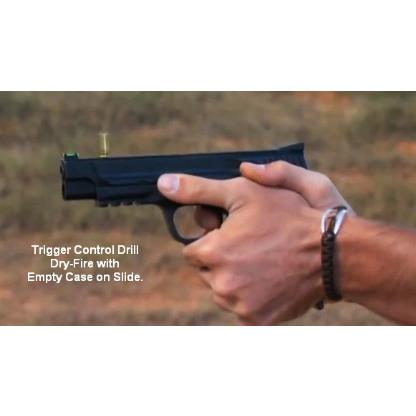gun: (59, 140, 313, 314)
